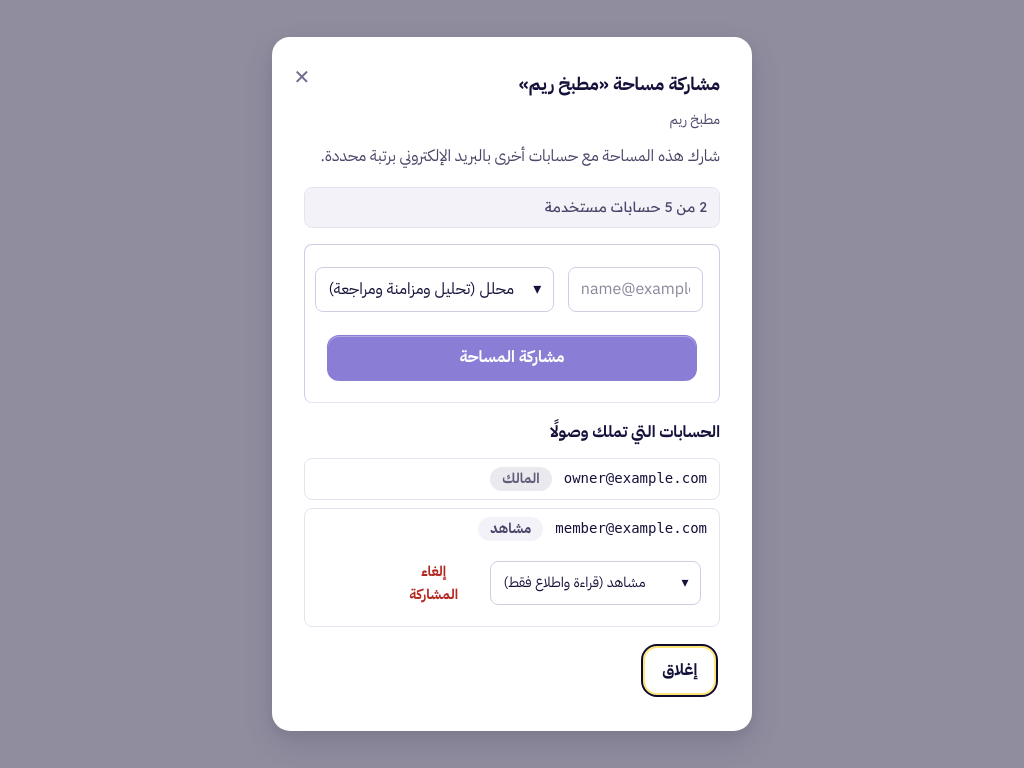
Scenario: ShareWorkspaceDialog › handles unsharing a member
Click the button with test id "share-remove-user-member": (434, 583) [396,554,471,612]
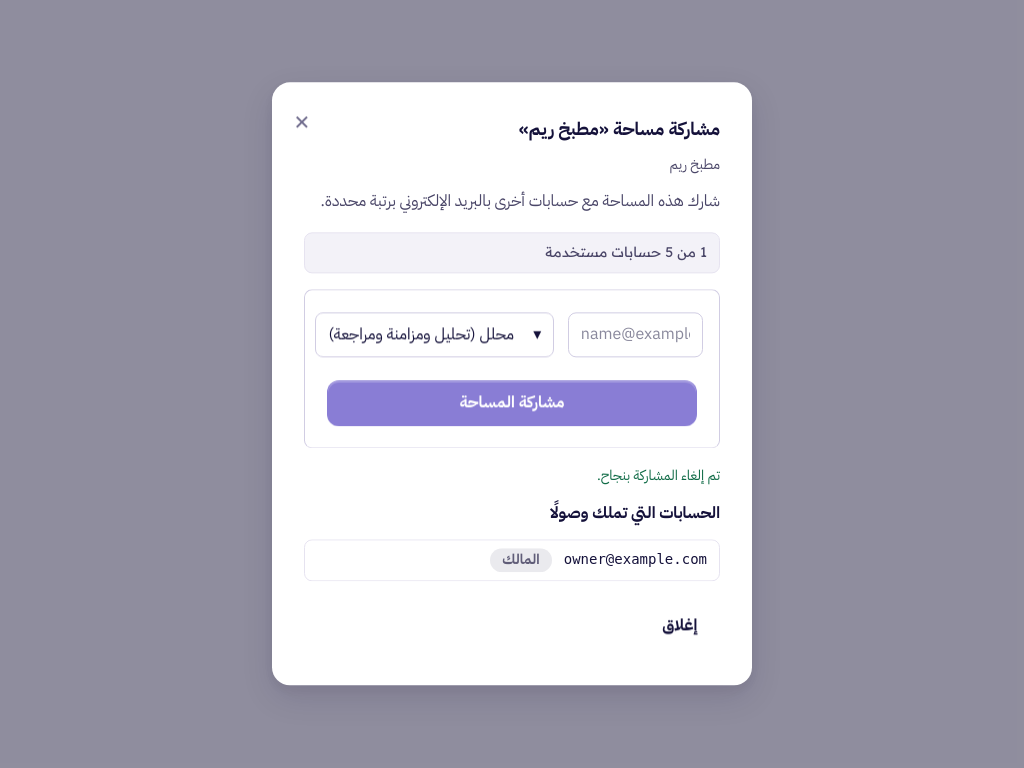
Now the text "member@example.com" is gone
